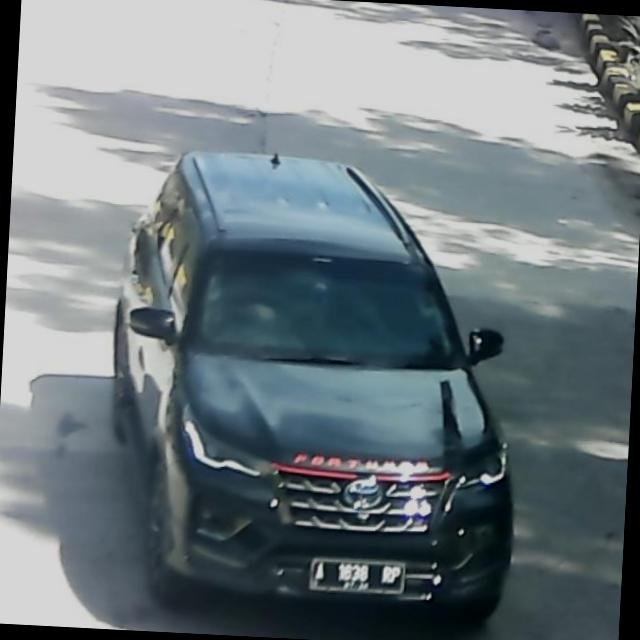plate: (308, 555, 408, 597)
